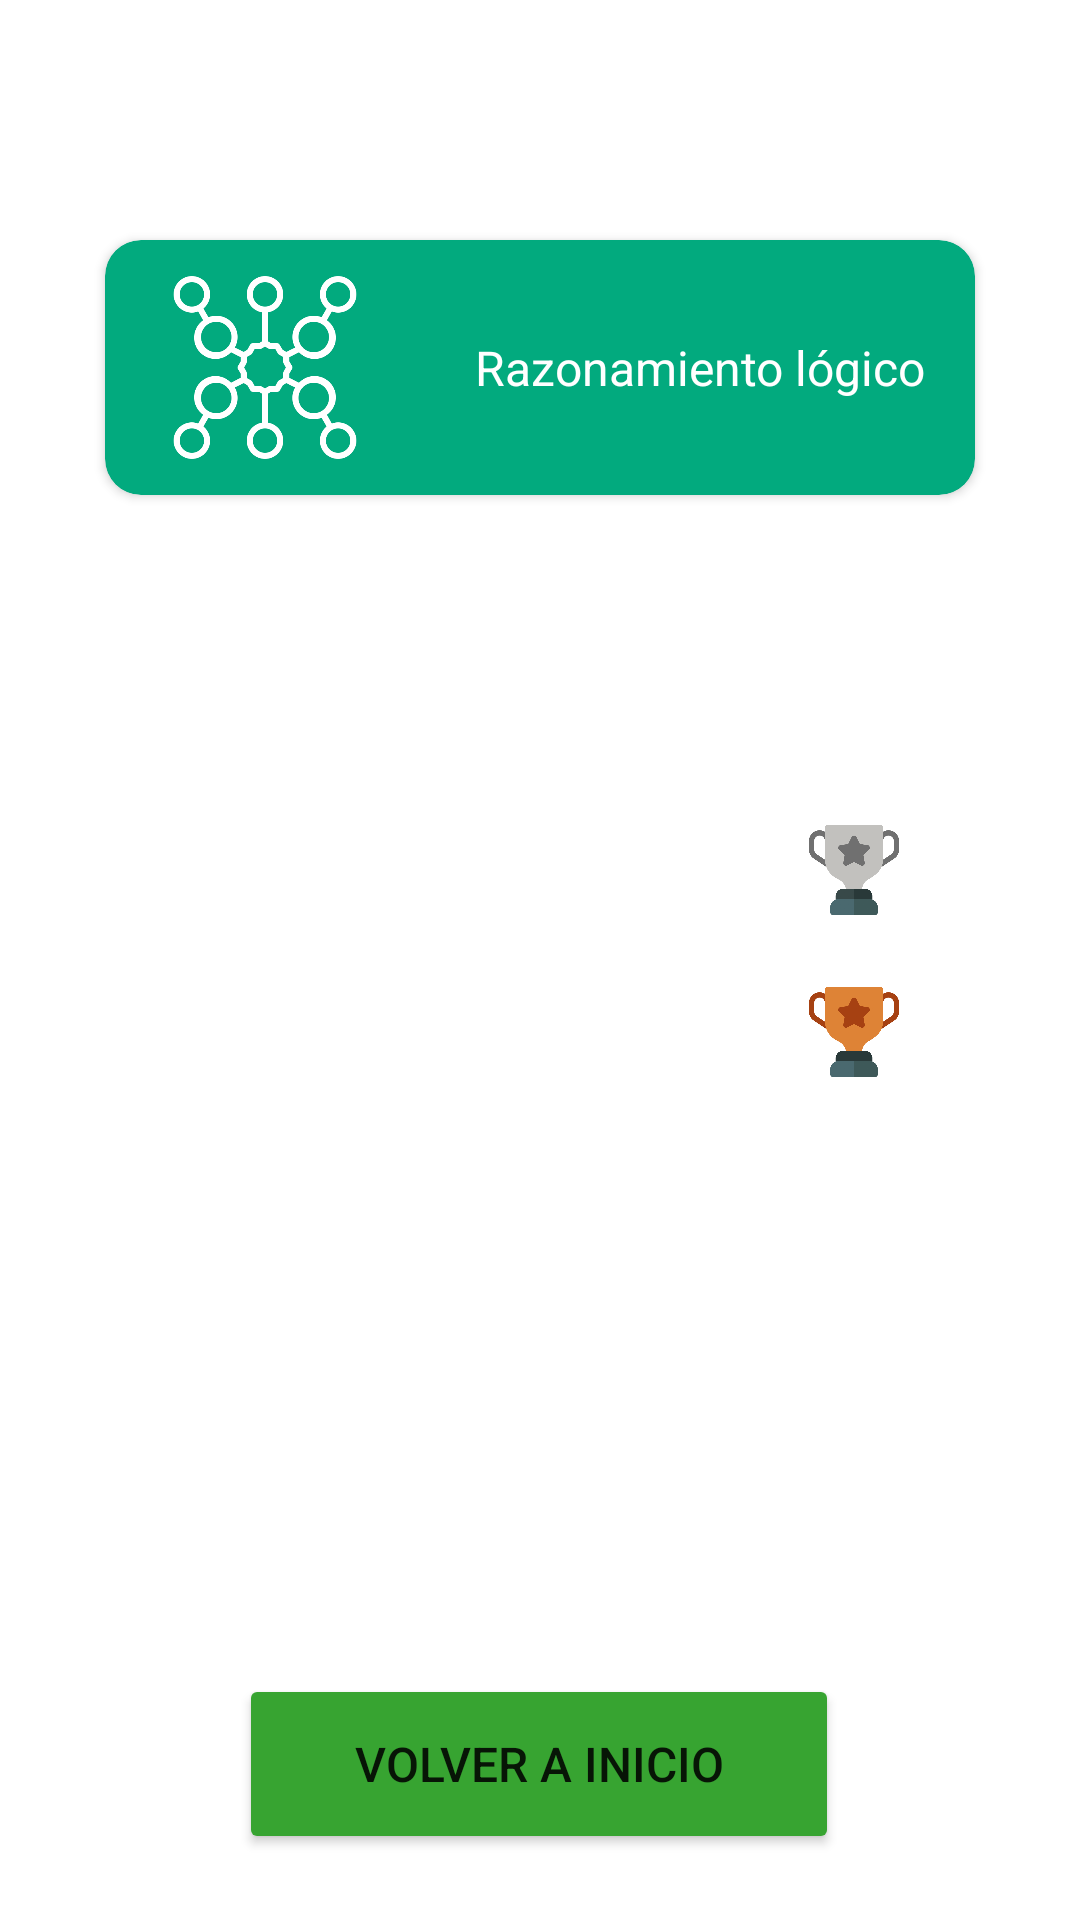

Screen size 1080px x 1920px. Icon name, then its center in pixels as (x=x, y=y):
logico: (x=265, y=367)
segundo lugar: (x=854, y=870)
tercer lugar: (x=854, y=1032)
